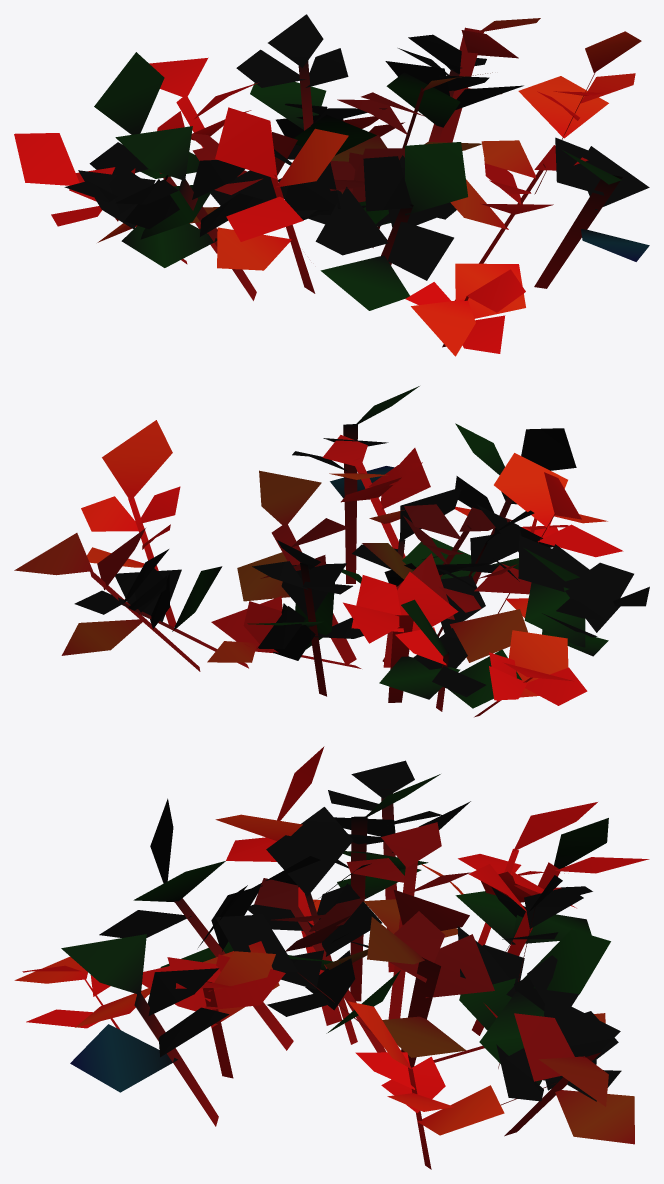
Rendered from Broadleaf Shrub Model.fbx.
The picture shows the model from 3 angles, top to bottom: view 1: azimuth 30°, elevation 25°; view 2: azimuth 150°, elevation 25°; view 3: azimuth 270°, elevation 25°; orthographic projection. The views are drawn at different scales.
Parts seen in each view (by area): view 1: Broadleaf_Shrub_1_Var2_LOD0; view 2: Broadleaf_Shrub_1_Var2_LOD0; view 3: Broadleaf_Shrub_1_Var2_LOD0.
Part boxes in pixels (x1,y1,x2,y2): Broadleaf_Shrub_1_Var2_LOD0: (14, 14, 649, 356); Broadleaf_Shrub_1_Var2_LOD0: (14, 386, 649, 717); Broadleaf_Shrub_1_Var2_LOD0: (14, 746, 649, 1169).
Size of the model in its own units: 84.54 by 72.32 by 29.49.
